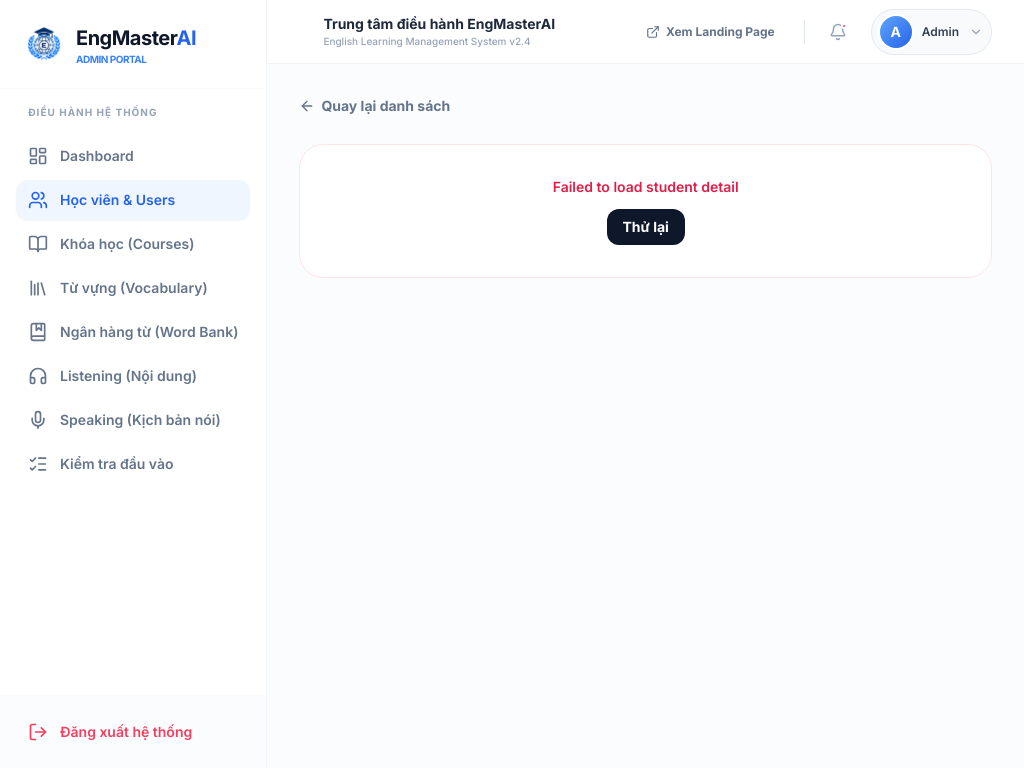
Test: AdminStudentDetail › shows an error state with retry when the detail request fails
Expected: the text "Failed to load student detail" is shown, [553,178,739,195]
Click the button "Thử lại" at x=646, y=227, box [606,209,685,245]
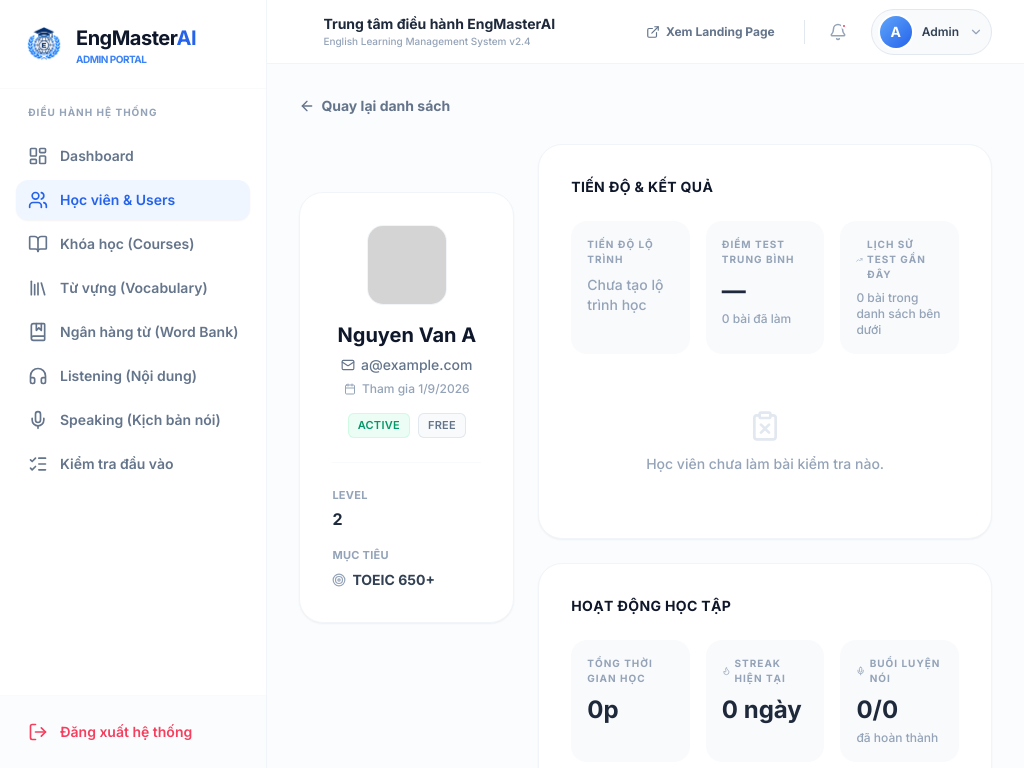
Result: the heading "Nguyen Van A" is shown at [338,321,476,349]
